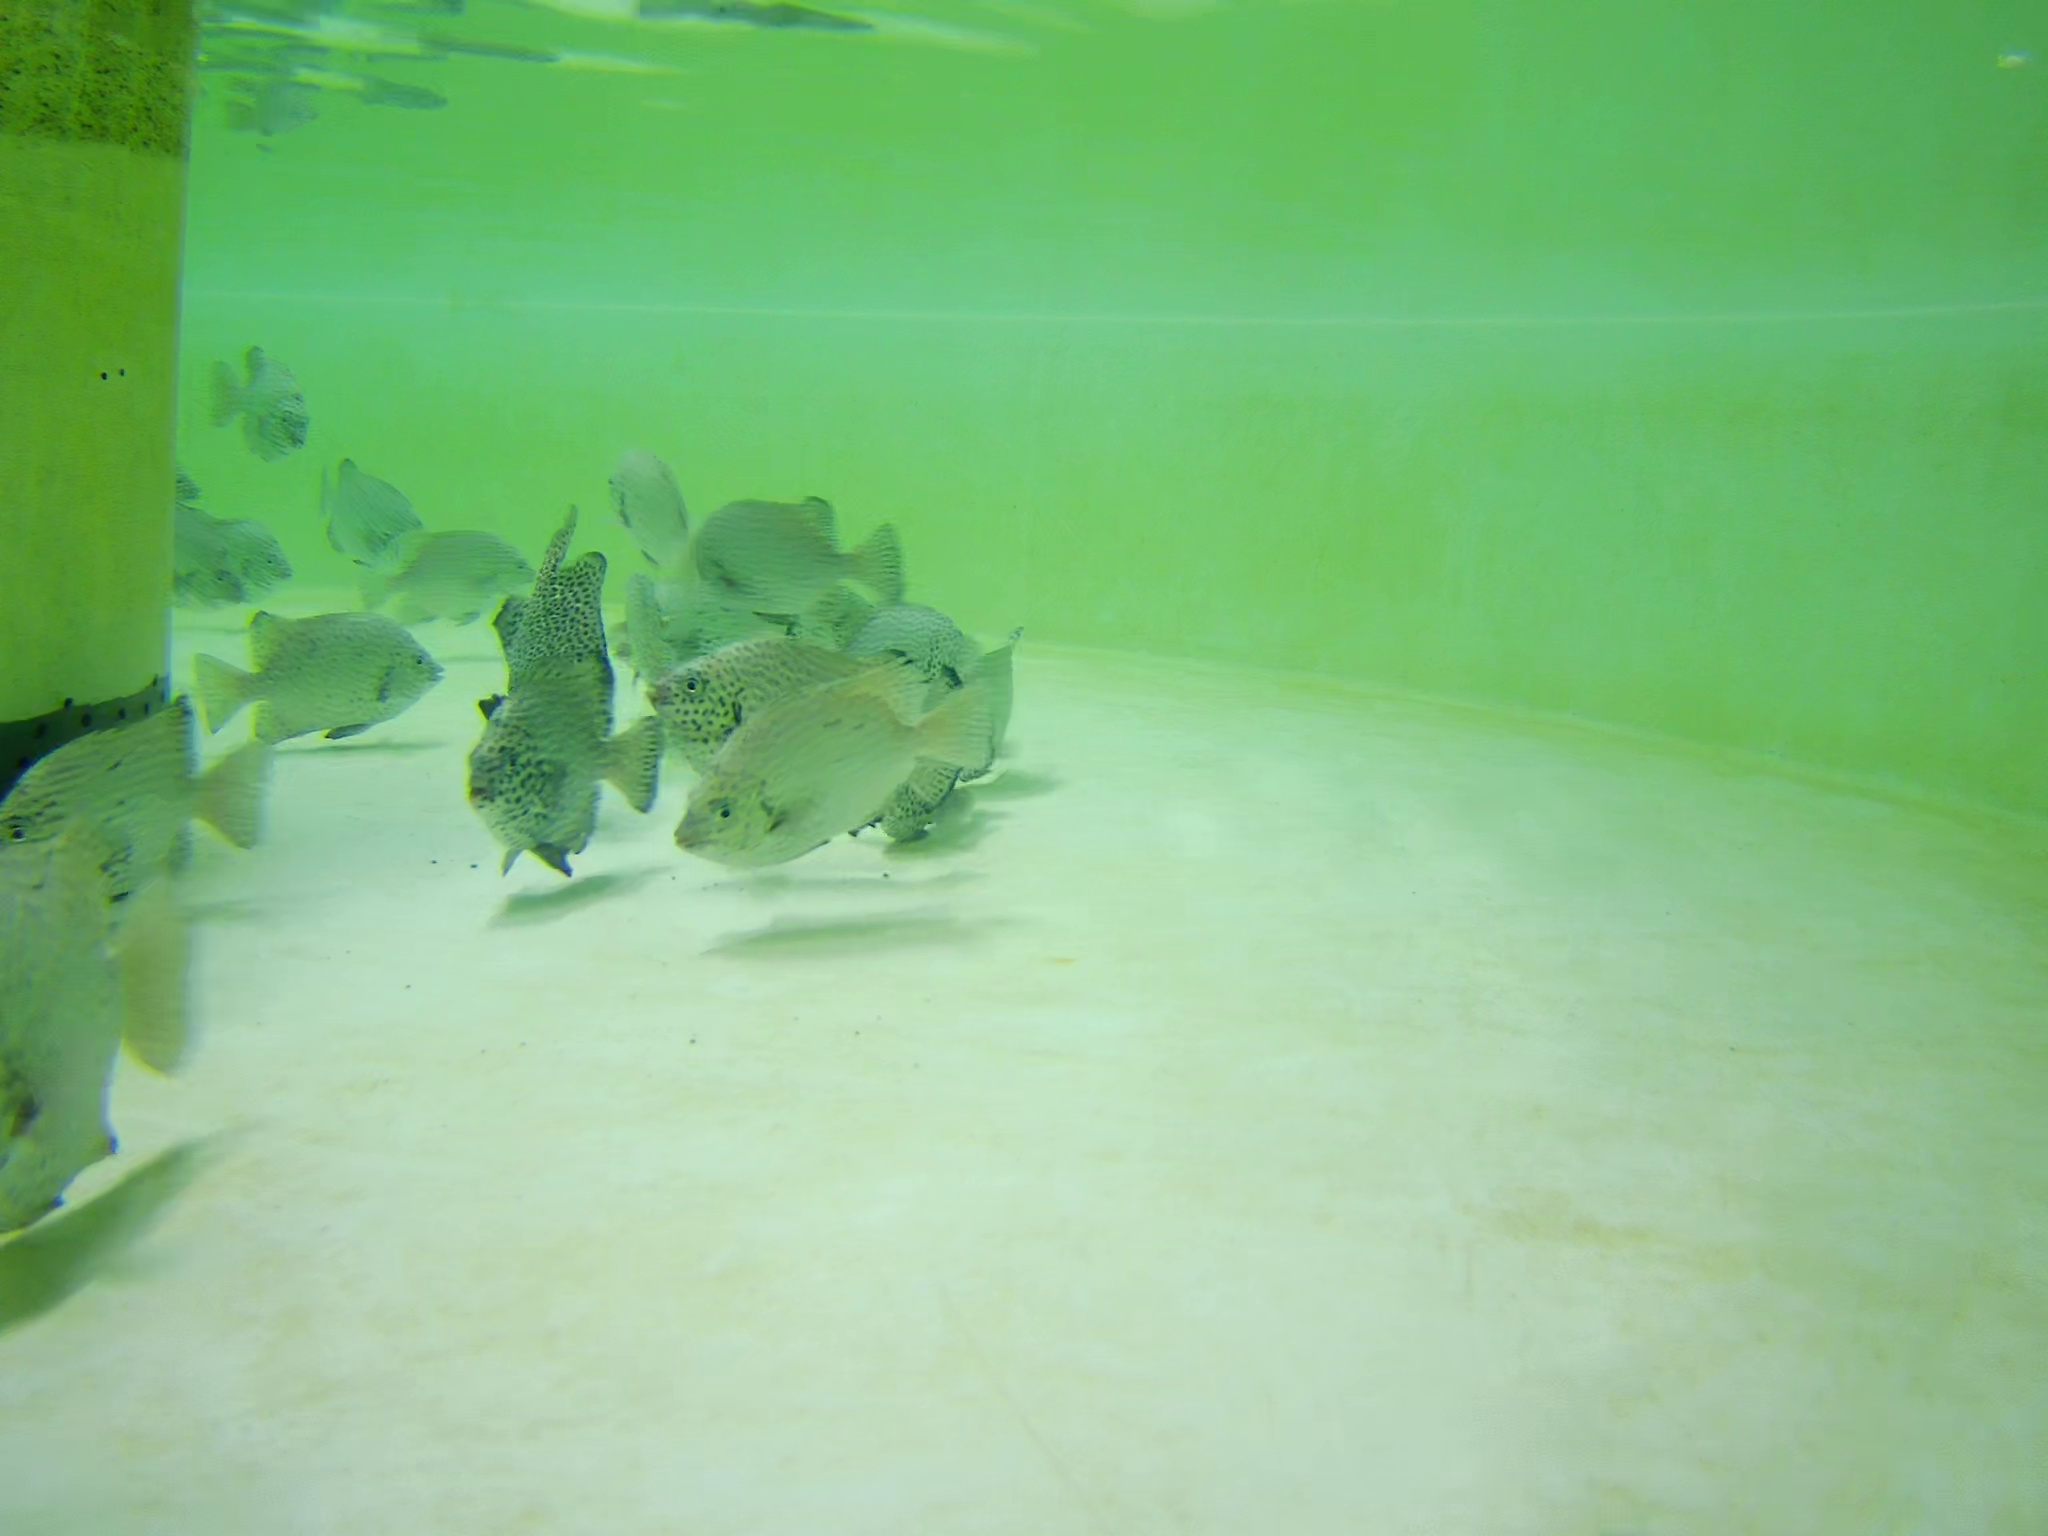fish: (2, 845, 200, 1239), (656, 650, 1016, 842), (2, 707, 276, 897), (460, 650, 674, 884), (177, 599, 453, 739), (642, 632, 939, 760), (676, 490, 922, 618), (306, 461, 455, 568), (834, 594, 987, 689), (158, 487, 284, 602), (348, 531, 526, 610), (216, 332, 311, 460), (601, 460, 697, 558)
